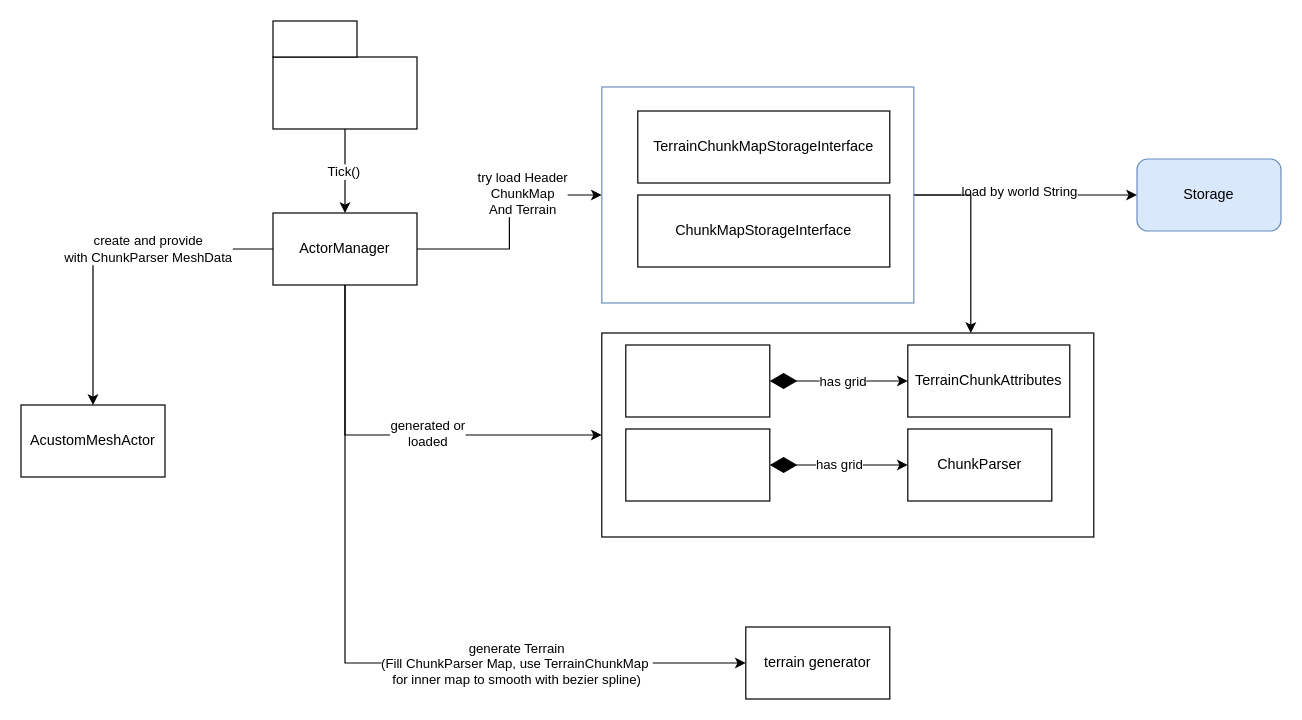
Some shapes in this 1302 by 720 pixel diagram are drawn without their labels. Each missing label, with the centre of its shape:
ChunkParserMap: point (697, 464)
EntryPoint: point (314, 38)
Terrain launcher: point (344, 92)
TerrainChunkMap (header Map): point (697, 380)
